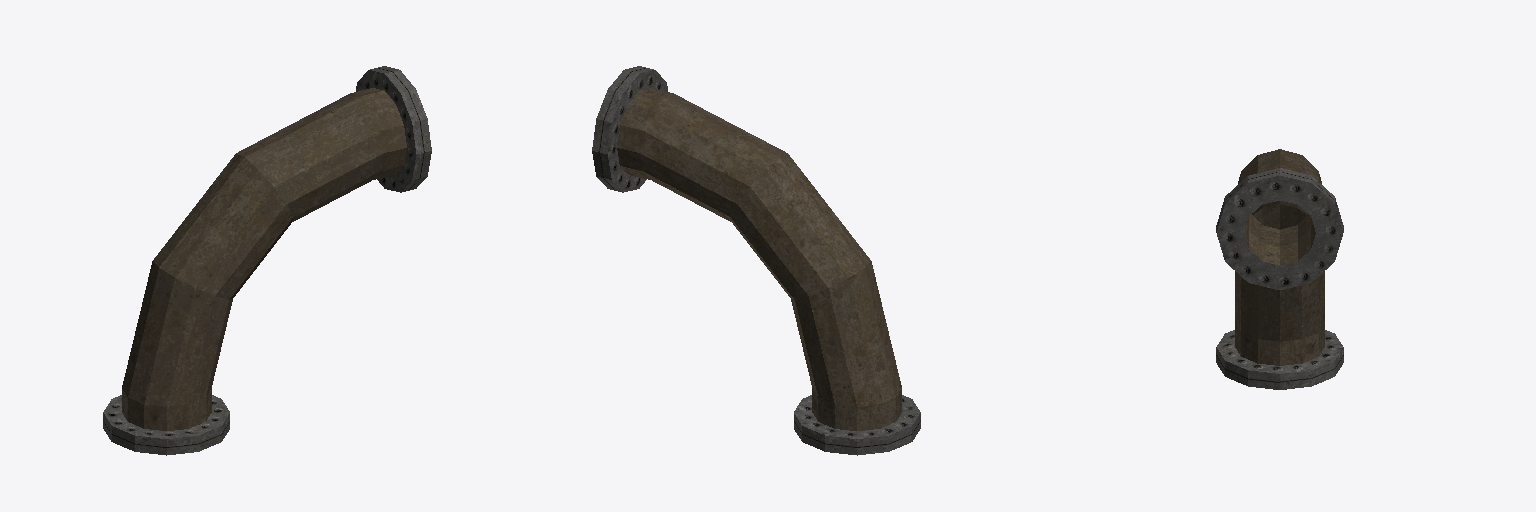
3 renders of one model, left to right at view 1: azimuth 30°, elevation 25°; view 2: azimuth 150°, elevation 25°; view 3: azimuth 270°, elevation 25°, orthographic.
Parts seen in each view (by area): view 1: cornerpiece_open; view 2: cornerpiece_open; view 3: cornerpiece_open.
Part boxes in pixels (x1,y1,x2,y2): cornerpiece_open: (103,66,431,455); cornerpiece_open: (592,66,920,455); cornerpiece_open: (1216,149,1343,389).
Size of the model in its own units: 1.85 by 1.85 by 0.7071.
1 materials, 1 textured.